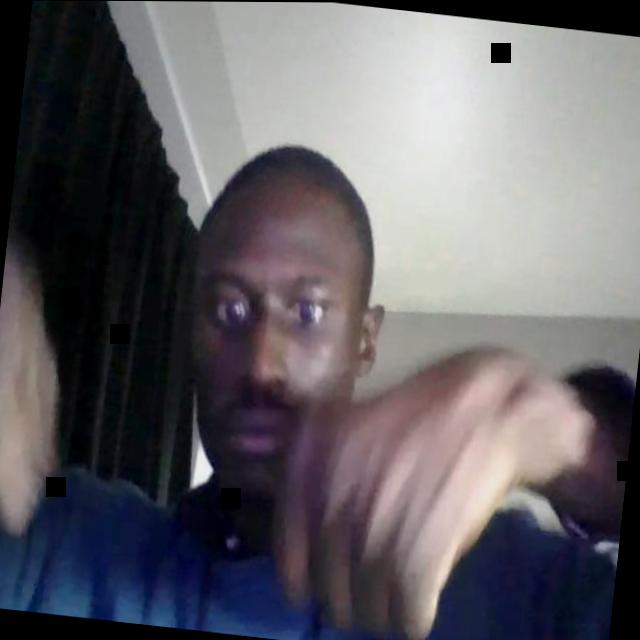NO-Mask: (172, 224, 368, 520)
